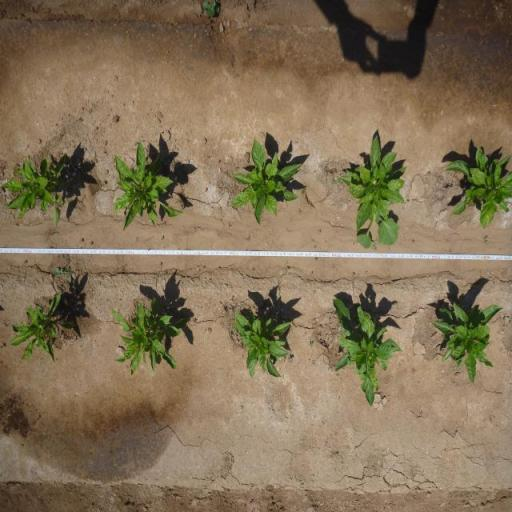plant: (328, 295, 404, 407), (341, 133, 411, 250), (227, 137, 302, 228), (429, 297, 504, 387), (111, 294, 189, 380), (112, 139, 182, 233), (444, 143, 512, 229), (1, 150, 72, 230), (9, 289, 76, 364), (232, 306, 290, 380)
weed: (202, 0, 226, 18), (52, 266, 74, 285), (331, 176, 344, 186), (371, 241, 379, 250), (484, 235, 490, 246), (228, 329, 234, 337), (0, 341, 6, 349), (308, 341, 314, 348), (288, 357, 294, 363), (192, 317, 198, 323), (302, 185, 306, 194), (223, 304, 226, 312), (298, 208, 302, 214), (102, 180, 106, 186), (89, 240, 93, 246), (234, 166, 238, 171), (80, 238, 84, 243), (352, 272, 355, 278), (315, 256, 318, 262), (412, 239, 415, 244), (318, 229, 320, 234)
